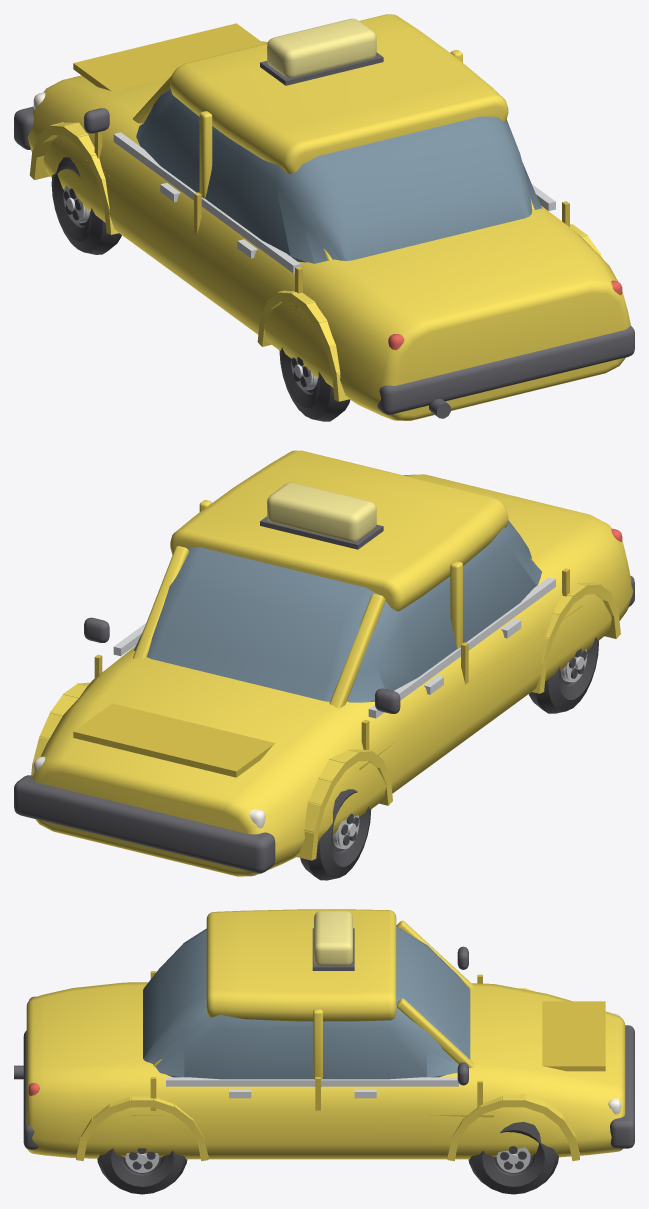
File: th7_taxi.glb
3 renders of one model, top to bottom at view 1: azimuth 30°, elevation 25°; view 2: azimuth 150°, elevation 25°; view 3: azimuth 270°, elevation 25°, orthographic. The views are drawn at different scales.
Parts seen in each view (by area): view 1: Karosserie, Karosserie.001, Karosserie.002, Cube.067, Cube.069, Cube.070, Torus.002, Cube.003, Torus, Cube.002, Cube.071, Cube.058 (+1 smaller); view 2: Karosserie, Karosserie.001, Karosserie.002, Cube.058, Cube.069, Cube.070, Torus.002, Torus, Cube.003, Cube, Cube.011, Cube.002 (+1 smaller); view 3: Karosserie, Karosserie.001, Karosserie.002, Cube.069, Torus.003, Cube.014, Torus.001, Cube.070, Cube.058, Cube.011, Cube.013, Cube.067 (+2 smaller).
Boxes of the visible parts, x1,y1,x2,y2 form: Karosserie: [27, 41, 630, 420]; Karosserie.001: [136, 88, 541, 263]; Karosserie.002: [170, 14, 508, 173]; Cube.067: [377, 326, 634, 414]; Cube.069: [73, 23, 264, 91]; Cube.070: [267, 18, 376, 77]; Torus.002: [51, 157, 121, 254]; Cube.003: [113, 132, 300, 273]; Torus: [279, 347, 350, 421]; Cube.002: [199, 111, 212, 198]; Cube.071: [260, 52, 383, 85]; Cube.058: [14, 106, 33, 149]; Karosserie: [33, 474, 633, 876]; Karosserie.001: [134, 520, 541, 702]; Karosserie.002: [170, 450, 508, 611]; Cube.058: [14, 775, 275, 873]; Cube.069: [73, 703, 274, 777]; Cube.070: [267, 482, 376, 541]; Torus.002: [300, 789, 371, 880]; Torus: [529, 637, 598, 713]; Cube.003: [368, 577, 555, 718]; Cube: [329, 593, 385, 708]; Cube.011: [133, 546, 188, 658]; Cube.002: [450, 561, 462, 648]; Karosserie: [26, 982, 625, 1159]; Karosserie.001: [143, 925, 470, 1079]; Karosserie.002: [206, 909, 396, 1021]; Cube.069: [542, 1001, 605, 1071]; Torus.003: [468, 1122, 558, 1194]; Cube.014: [166, 1077, 458, 1086]; Torus.001: [97, 1148, 187, 1194]; Cube.070: [314, 911, 352, 965]; Cube.058: [610, 1025, 634, 1148]; Cube.011: [397, 998, 474, 1067]; Cube.013: [313, 1009, 322, 1086]; Cube.067: [23, 1030, 37, 1149].
Bounding box in the file's own units: 2.12 × 1.72 × 4.45.
